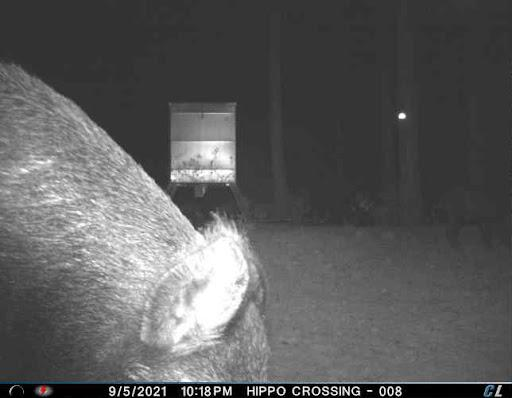Hog: (0, 45, 282, 383), (426, 175, 512, 253)
